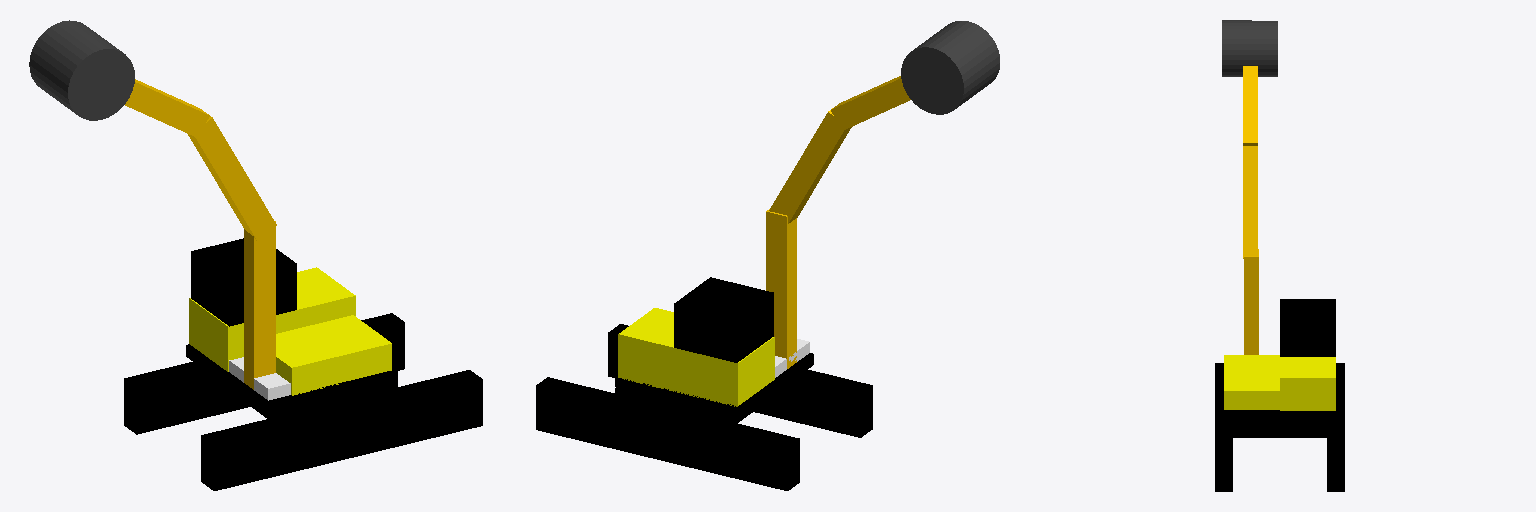
robot.urdf — robot_name:
<robot name="robot_name">
    <link name="world"/>
    <link name="caterpillar_wheel1">
        <visual name="">
            <origin xyz="0.0 0.3 -0.1" rpy="0.0 0.0 0.0"/>
            <geometry>
                <box size="1.2 0.1 0.2"/>
            </geometry>
            <material name="Black_base1">
                <color rgba="0.0 0.0 0.0 1.0"/>
            </material>
        </visual>
    </link>
	<link name="caterpillar_wheel2">
        <visual name="">
            <origin xyz="0.0 -0.3 -0.1" rpy="0.0 0.0 0.0"/>
            <geometry>
                <box size="1.2 0.1 0.2"/>
            </geometry>
            <material name="Black_base2">
                <color rgba="0.0 0.0 0.0 1.0"/>
            </material>
        </visual>
	 </link>
	<link name="Main_base">
        <visual name="">
            <origin xyz="0.0 0.0 0.0" rpy="0.0 0.0 0.0"/>
            <geometry>
                <box size="0.5 0.6 0.1"/>
            </geometry>
            <material name="Black_base">
                <color rgba="0.0 0.0 0.0 1.0"/>
            </material>
        </visual>
	</link>
	<joint name="mainjoint" type="fixed">
        <origin xyz="0.0 0.0 0.0" rpy="0.0 0.0 0.0"/>
        <parent link="world"/>
        <child link="Main_base"/>
        <axis xyz="0.0 0.0 0.0"/>
    </joint>
	<joint name="mainjoint2" type="fixed">
        <origin xyz="0.0 0.0 0.0" rpy="0.0 0.0 0.0"/>
        <parent link="Main_base"/>
        <child link="caterpillar_wheel1"/>
        <axis xyz="0.0 0.0 0.0"/>
    </joint>
	<joint name="mainjoint3" type="fixed">
        <origin xyz="0.0 0.0 0.0" rpy="0.0 0.0 0.0"/>
        <parent link="Main_base"/>
        <child link="caterpillar_wheel2"/>
        <axis xyz="0.0 0.0 0.0"/>
    </joint>

	<link name="cabin_sit_base">
        <visual name="">
            <origin xyz="-0.05 0.15 0.2" rpy="0.0 0.0 0.0"/>
            <geometry>
                <box size="0.57 0.30 0.2"/>
            </geometry>
            <material name="glass">
                <color rgba="1.0 1.0 0.0 1.0"/>
                <texture filename=""/>
            </material>
        </visual>
    </link>
	
	<link name="move_base_main">
        <visual name="">
            <origin xyz="-0.05 0.0 0.08" rpy="0.0 0.0 0.0"/>
            <geometry>
                <box size="0.6 0.6 0.05"/>
            </geometry>
            <material name="black_move_base">
                <color rgba="0.0 0.0 0.0 1.0"/>
                <texture filename=""/>
            </material>
        </visual>
    </link>
	<joint name="moveablejoint" type="revolute">
        <origin xyz="0.0 0.0 0.0" rpy="0.0 0.0 0.0"/>
        <parent link="Main_base"/>
        <child link="move_base_main"/>
        <axis xyz="0.0 0.0 1.0"/>
      	<limit lower="-3.14" upper="3.14" effort="20" velocity="1.0"/>
    </joint>
	<joint name="cabin_base" type="fixed">
        <origin xyz="0.0 0.0 0.0" rpy="0.0 0.0 0.0"/>
        <parent link="move_base_main"/>
        <child link="cabin_sit_base"/>
        <axis xyz="0.0 0.0 0.0"/>
    </joint>
	<link name="cabin">
        <visual name="">
            <origin xyz="-0.18 0.15 0.4" rpy="0.0 0.0 0.0"/>
            <geometry>
                <box size="0.3 0.30 0.2"/>
            </geometry>
            <material name="glass_cabin">
                <color rgba="0.0 0.0 0.0 1.0"/>
                <texture filename=""/>
            </material>
        </visual>
    </link>
	<joint name="cabin_pure" type="fixed">
        <origin xyz="0.0 0.0 0.0" rpy="0.0 0.0 0.0"/>
        <parent link="cabin_sit_base"/>
        <child link="cabin"/>
        <axis xyz="0.0 0.0 0.0"/>
    </joint>

	<link name="cabin_side_base">
        <visual name="">
            <origin xyz="-0.000 -0.15 0.16" rpy="0.0 0.0 0.0"/>
            <geometry>
                <box size="0.45 0.30 0.12"/>
            </geometry>
            <material name="mat">
                <color rgba="1.0 1.0 0.0 1.0"/>
                <texture filename=""/>
            </material>
        </visual>
    </link>
	<joint name="cabin_side" type="fixed">
        <origin xyz="0.0 0.0 0.0" rpy="0.0 0.0 0.0"/>
        <parent link="move_base_main"/>
        <child link="cabin_side_base"/>
        <axis xyz="0.0 0.0 0.0"/>
    </joint>
	<link name="arm_base">
        <visual name="">
            <origin xyz="-0.28 -0.15 0.13" rpy="0.0 0.0 0.0"/>
            <geometry>
                <box size="0.10 0.3 0.05"/>
            </geometry>
            <material name="mate">
                <color rgba="1.0 1.0 1.0 1.0"/>
                <texture filename=""/>
            </material>
        </visual>
    </link>
	<joint name="arm_base_joint" type="fixed">
        <origin xyz="0.0 0.0 0.0" rpy="0.0 0.0 0.0"/>
        <parent link="move_base_main"/>
        <child link="arm_base"/>
        <axis xyz="0.0 0.0 0.0"/>
    </joint>
	<link name="arm_1_1">
        <visual name="">
            <origin xyz="-0.0 -0.0 0.3" rpy="0.0 0.0 0.0"/>
            <geometry>
                <box size="0.10 0.08 0.7"/>
            </geometry>
            <material name="arm_mat">
                <color rgba="1.0 0.8 0.0 1.0"/>
                <texture filename=""/>
            </material>
        </visual>
    </link>
	<joint name="arm_joint_1" type="revolute">
        <origin xyz="-0.28 -0.15 0.15" rpy="0.0 0.0 0.0"/>
        <parent link="arm_base"/>
        <child link="arm_1_1"/>
        <axis xyz="0.0 1.0 0.0"/>
      	<limit lower="-1.57" upper="0.6" effort="5.0" velocity="1.0"/>
    </joint>
	<link name="arm_top_block">
    	<visual name="">
        	<origin xyz="0.06 0 0.18" rpy="0 -0.5 0"/> 
        	<geometry>
            	<box size="0.1 0.08 0.6"/>
        	</geometry>
        	<material name="arm_mat_top">
            	<color rgba="1.0 0.8 0.0 1.0"/>
        	</material>
    	</visual>
	</link>

	<joint name="arm_top_joint" type="fixed">
    	<origin xyz="-0.2 -0.01 0.7" rpy="0 0 0"/> 
    	<parent link="arm_1_1"/>
    	<child link="arm_top_block"/>
    	<axis xyz="0 0 0"/>
	</joint>
	<link name="arm_2_1">
    	<visual name="">
        	<origin xyz="-0.00 0 0.25" rpy="0 0 0"/>
        	<geometry>
            	<box size="0.1 0.08 0.55"/>
        	</geometry>
        	<material name="arm_mat_2">
            	<color rgba="1.0 0.8 0.0 1.0"/>
        	</material>
    	</visual>
	</link>

	<joint name="arm_joint_2" type="revolute">
    	<origin xyz="-0.10 0 0.45" rpy="0 0 0"/>
    	<parent link="arm_top_block"/>
    	<child link="arm_2_1"/>
    	<axis xyz="0 1 0"/>
    	<limit lower="-1.57" upper="-0.4" effort="5.0" velocity="1.0"/>
	</joint>

	<link name="front_bucket">
    	<visual>
        	<origin xyz="0 0 0.1" rpy="1.57 0 0"/> 
        	<geometry>
            	<cylinder radius="0.15" length="0.3"/> 
        	</geometry>
        	<material name="bucket_color">
            	<color rgba="0.3 0.3 0.3 1.0"/>
        	</material>
    	</visual>
	</link>

	<joint name="bucket_joint" type="revolute">
    	<origin xyz="0 0 0.5" rpy="0 0 0"/>
    	<parent link="arm_2_1"/>
    	<child link="front_bucket"/>
    	<axis xyz="0 1 0"/> 
    	<limit lower="-1.57" upper="1.0" effort="10.0" velocity="1.0"/>
	</joint>

    
</robot>

--- Render facts (derived) ---
3 views of the same robot in one strip: view 1: azimuth 30°, elevation 25°; view 2: azimuth 150°, elevation 25°; view 3: azimuth 270°, elevation 25° (orthographic).
Model robot_name with 13 links and 12 joints (4 revolute, 8 fixed), rooted at world, posed all joints at 0 but 1 set to mid-range because 0 is outside their limits (arm_joint_2 = -0.985).
Visible links, largest first — view 1: caterpillar_wheel2, front_bucket, caterpillar_wheel1, cabin_side_base, cabin_sit_base, cabin, arm_1_1, arm_top_block, move_base_main, arm_2_1, Main_base, arm_base; view 2: caterpillar_wheel1, cabin_sit_base, cabin, front_bucket, caterpillar_wheel2, arm_1_1, arm_top_block, move_base_main, arm_2_1, Main_base; view 3: cabin, cabin_side_base, cabin_sit_base, front_bucket, Main_base, caterpillar_wheel1, caterpillar_wheel2, arm_top_block, arm_1_1, arm_2_1, move_base_main.
Boxes of the visible links, x1,y1,x2,y2 form: caterpillar_wheel2: (201, 370, 482, 490); front_bucket: (29, 20, 134, 120); caterpillar_wheel1: (124, 313, 404, 434); cabin_side_base: (276, 315, 391, 395); cabin_sit_base: (189, 267, 355, 371); cabin: (191, 238, 296, 326); arm_1_1: (244, 221, 275, 389); arm_top_block: (188, 114, 276, 240); move_base_main: (186, 344, 397, 412); arm_2_1: (125, 79, 209, 137); Main_base: (215, 378, 397, 420); arm_base: (229, 357, 290, 400); caterpillar_wheel1: (536, 377, 799, 490); cabin_sit_base: (618, 308, 774, 406); cabin: (674, 277, 773, 362); front_bucket: (901, 21, 999, 114); caterpillar_wheel2: (608, 324, 872, 437); arm_1_1: (766, 209, 796, 368); arm_top_block: (769, 108, 851, 223); move_base_main: (615, 353, 813, 417); arm_2_1: (831, 76, 910, 129); Main_base: (615, 385, 786, 424); cabin: (1280, 299, 1335, 356); cabin_side_base: (1224, 355, 1279, 409); cabin_sit_base: (1280, 357, 1335, 410); front_bucket: (1222, 20, 1277, 76); Main_base: (1224, 421, 1335, 437); caterpillar_wheel1: (1327, 363, 1344, 491); caterpillar_wheel2: (1215, 363, 1232, 491); arm_top_block: (1243, 146, 1257, 258); arm_1_1: (1244, 249, 1258, 354); arm_2_1: (1243, 66, 1257, 145); move_base_main: (1224, 410, 1335, 420).
Bounding box of the posed robot: 1.83 × 0.7 × 1.98 m (x, y, z).
Geometry: primitives only (box / cylinder / sphere), no mesh files.